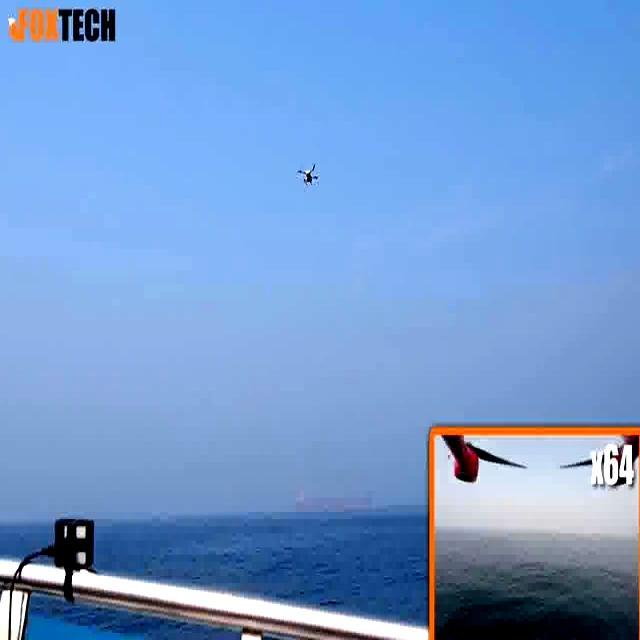drone: (296, 160, 322, 188)
